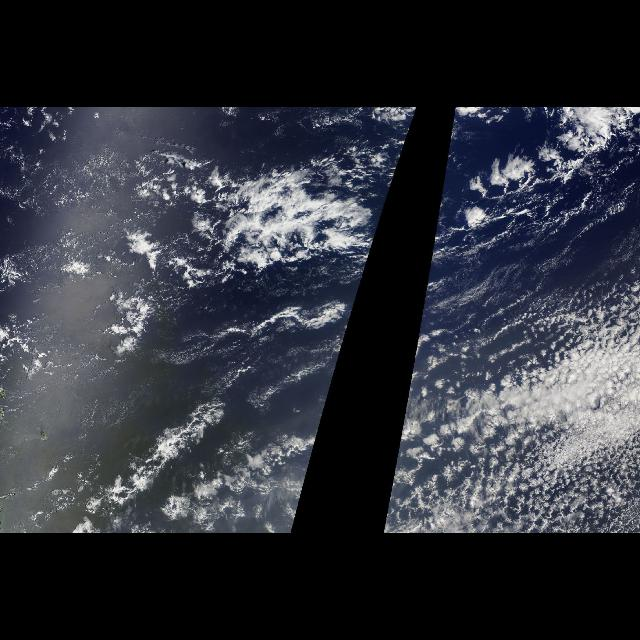Fish: (120, 154, 362, 288), (162, 299, 346, 356)
Flower: (382, 279, 638, 531), (148, 279, 364, 531), (466, 152, 614, 206)
Sugar: (25, 132, 192, 222)
